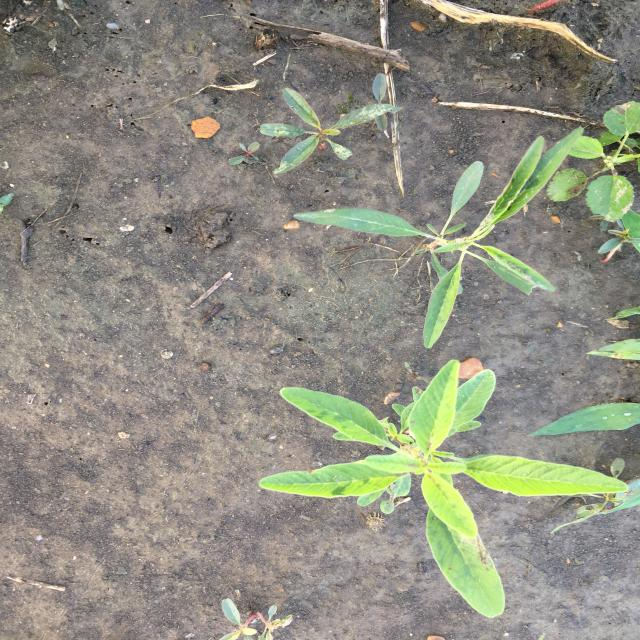PricklySida: (542, 96, 637, 224)
Waterhemp: (256, 357, 632, 622), (291, 126, 587, 351), (255, 86, 395, 178)
